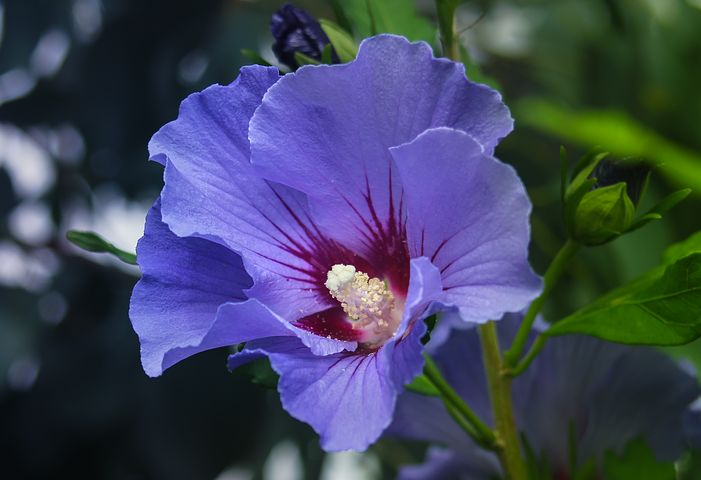Hibiscus: (107, 54, 557, 443), (554, 96, 659, 259)
